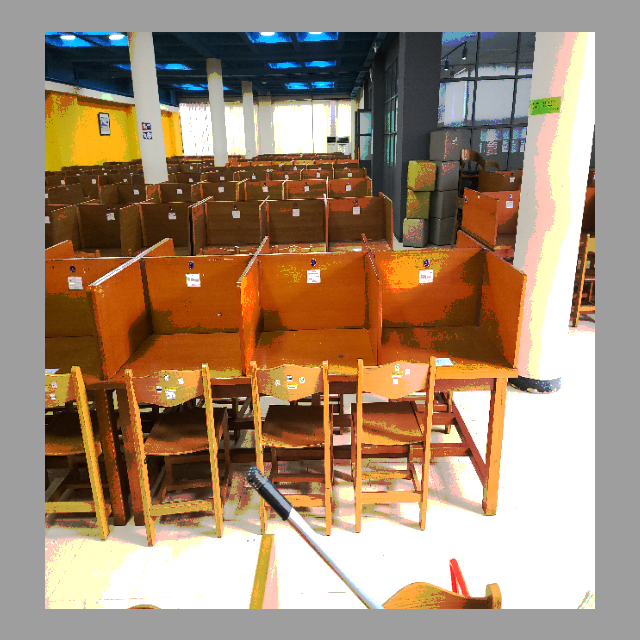empty: (93, 248, 242, 434), (387, 239, 517, 450), (250, 252, 382, 444)
